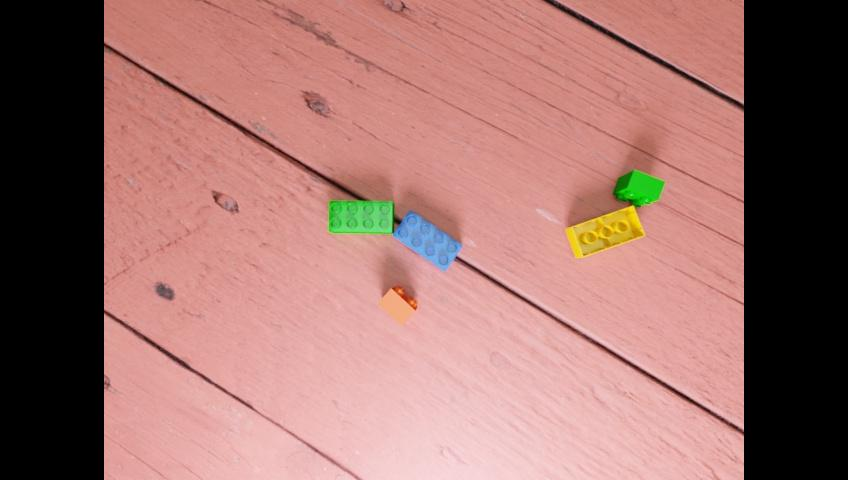2x2_green: (612, 169, 664, 207)
2x2_orange: (377, 285, 417, 325)
4x2_blue: (392, 209, 461, 271)
4x2_green: (328, 200, 393, 233)
4x2_yellow: (564, 205, 644, 257)
